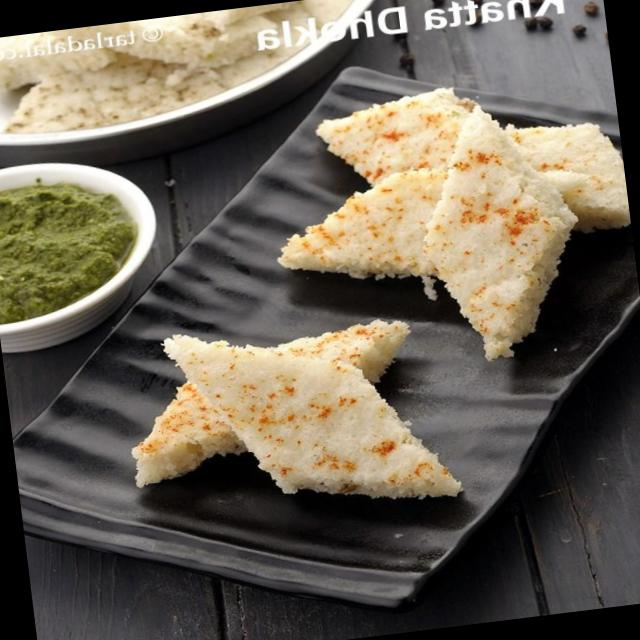dhokla: (312, 87, 628, 358), (155, 300, 430, 547)
